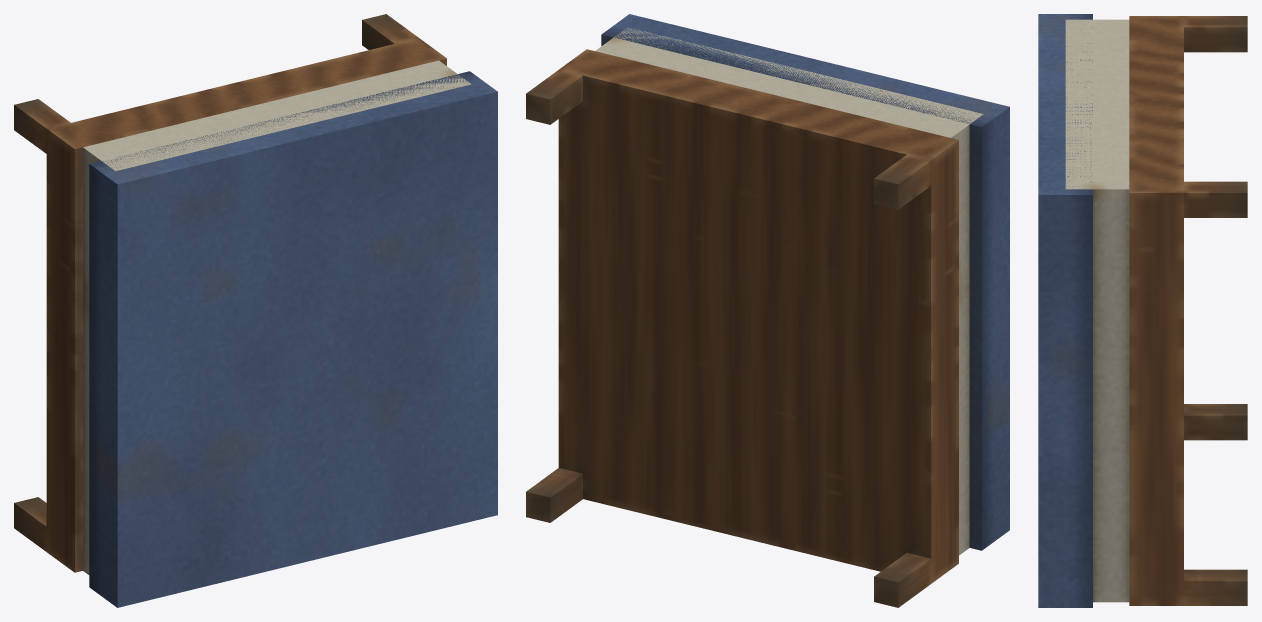
File: bed_blue.obj
3 views of the same model, side by side, from view 1: azimuth 30°, elevation 25°; view 2: azimuth 150°, elevation 25°; view 3: azimuth 270°, elevation 25° (orthographic). The views are drawn at different scales.
Size of the model in its own units: 0.94 by 1 by 0.46.
1 material, 1 textured.
